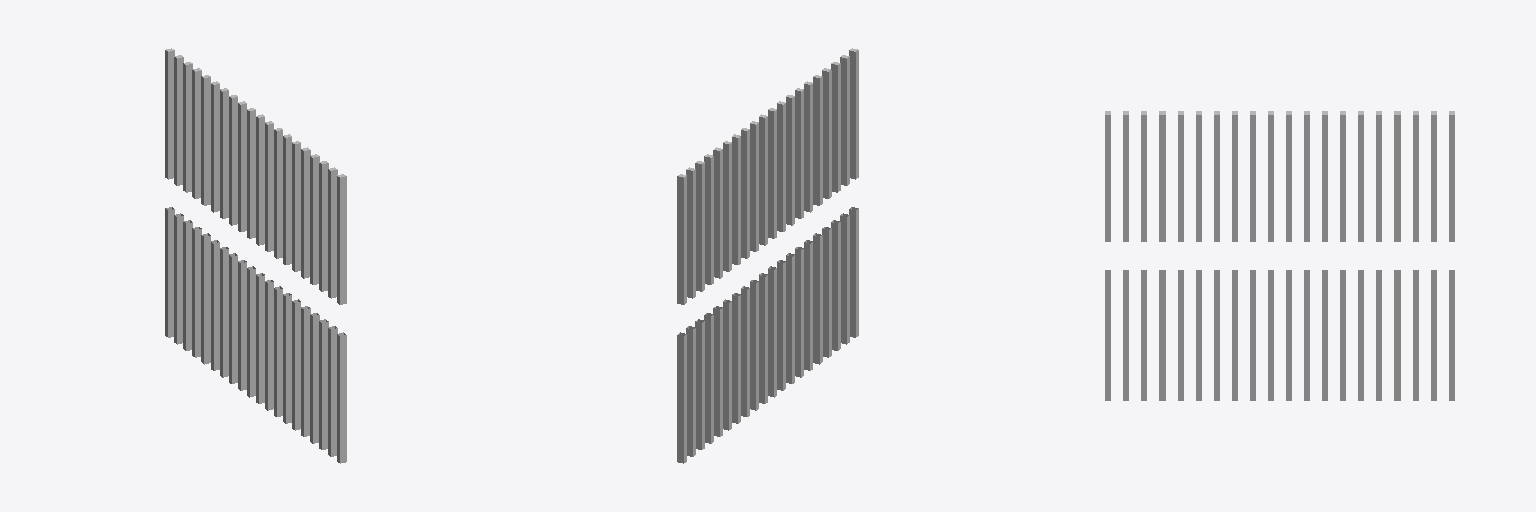
File: cerdas.obj
3 views of the same model, side by side, from view 1: azimuth 30°, elevation 25°; view 2: azimuth 150°, elevation 25°; view 3: azimuth 270°, elevation 25° (orthographic).
Visible parts, largest first — view 1: Cube; view 2: Cube; view 3: Cube.
Boxes of the visible parts, x1,y1,x2,y2 form: Cube: [165, 48, 346, 463]; Cube: [677, 48, 858, 463]; Cube: [1105, 111, 1454, 400].
Size of the model in its own units: 0.0163 by 0.6735 by 0.7457.